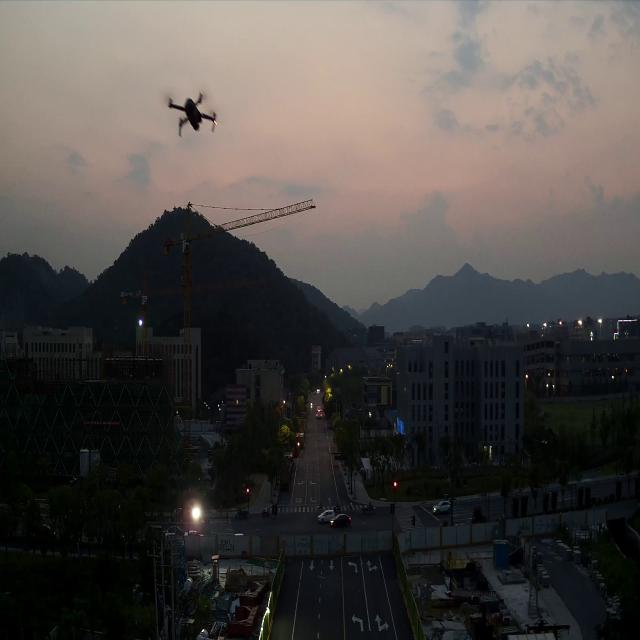UAV: (168, 92, 217, 140)
